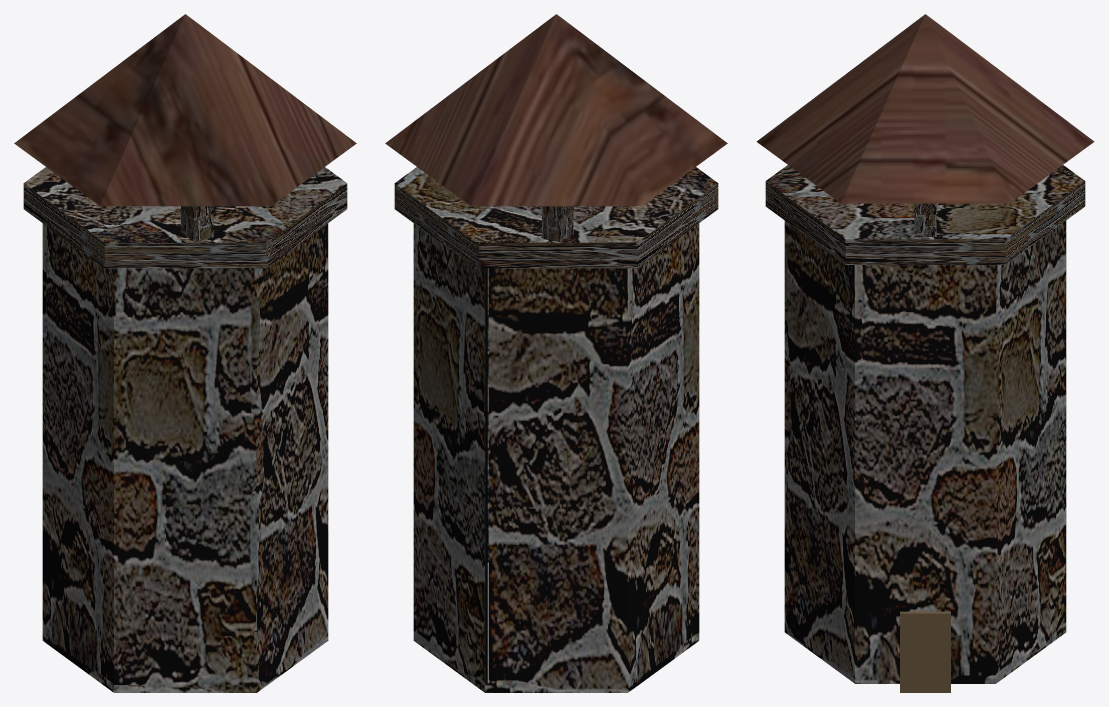
File: guard_tower.glb
3 renders of one model, left to right at view 1: azimuth 30°, elevation 25°; view 2: azimuth 150°, elevation 25°; view 3: azimuth 270°, elevation 25°, orthographic.
Parts seen in each view (by area): view 1: Tower_Body, Tower_Roof, Tower_Platform, Tower_Merlon_2; view 2: Tower_Body, Tower_Roof, Tower_Platform, Tower_Merlon_1; view 3: Tower_Body, Tower_Roof, Tower_Platform, Tower_Door, Tower_Merlon_0.
Boxes of the visible parts, x1=… form: Tower_Body: x1=42, y1=223, x2=328, y2=692; Tower_Roof: x1=14, y1=14, x2=356, y2=206; Tower_Platform: x1=23, y1=167, x2=347, y2=268; Tower_Merlon_2: x1=181, y1=206, x2=213, y2=241; Tower_Body: x1=413, y1=223, x2=699, y2=692; Tower_Roof: x1=385, y1=14, x2=727, y2=206; Tower_Platform: x1=394, y1=167, x2=718, y2=268; Tower_Merlon_1: x1=542, y1=206, x2=573, y2=242; Tower_Body: x1=784, y1=220, x2=1066, y2=683; Tower_Roof: x1=756, y1=14, x2=1094, y2=203; Tower_Platform: x1=765, y1=165, x2=1085, y2=264; Tower_Door: x1=900, y1=611, x2=950, y2=692; Tower_Merlon_0: x1=914, y1=203, x2=936, y2=236.
Size of what is drawn, in the model's own units: 3.12 by 7.26 by 3.6.
3 materials, 2 textured.
